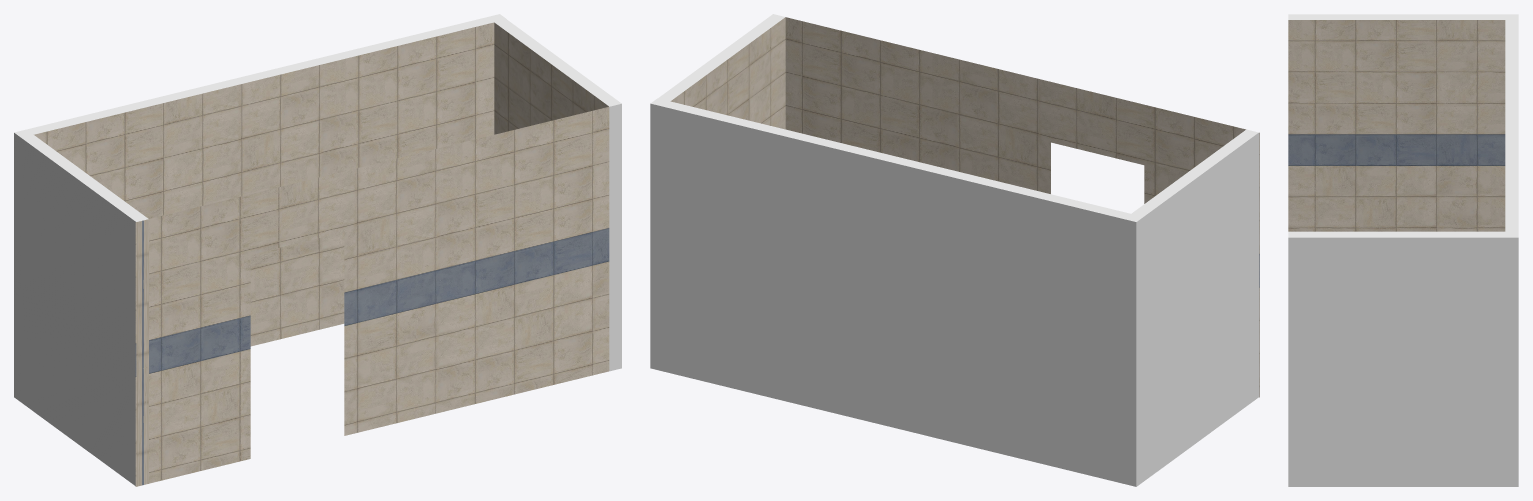
Rendered from Bathroom walls.FBX.
3 views of the same model, side by side, from view 1: azimuth 30°, elevation 25°; view 2: azimuth 150°, elevation 25°; view 3: azimuth 270°, elevation 25° (orthographic). The views are drawn at different scales.
Visible parts, largest first — view 1: bathroom walls; view 2: bathroom walls; view 3: bathroom walls.
Part boxes in pixels (x1,y1,x2,y2): bathroom walls: [14, 14, 621, 486]; bathroom walls: [650, 14, 1259, 486]; bathroom walls: [1288, 14, 1518, 486].
Size of the model in its own units: 6330 by 2758 by 3291.
Materials: 2 (1 with a texture image).
